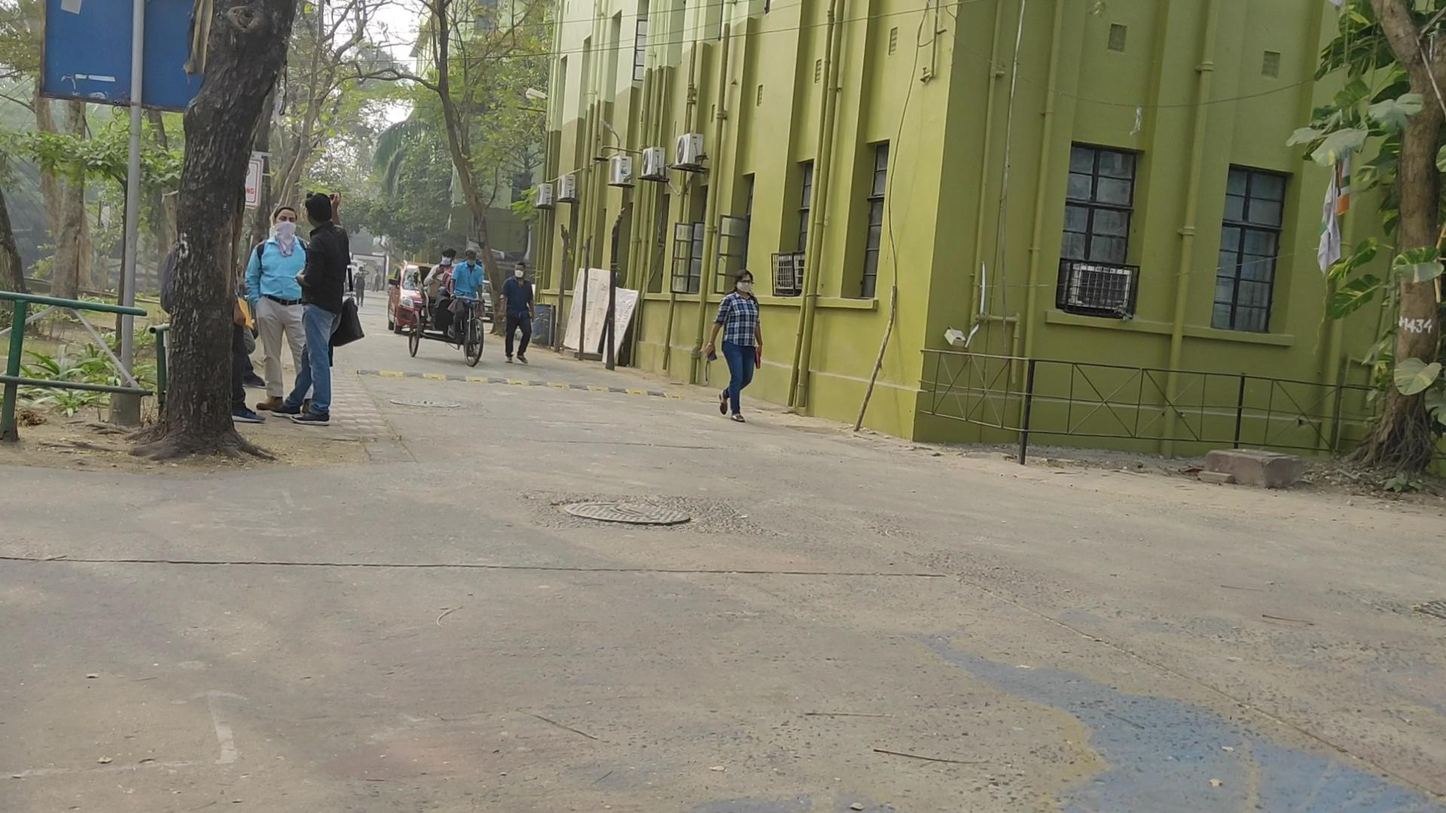car: (387, 259, 416, 335)
